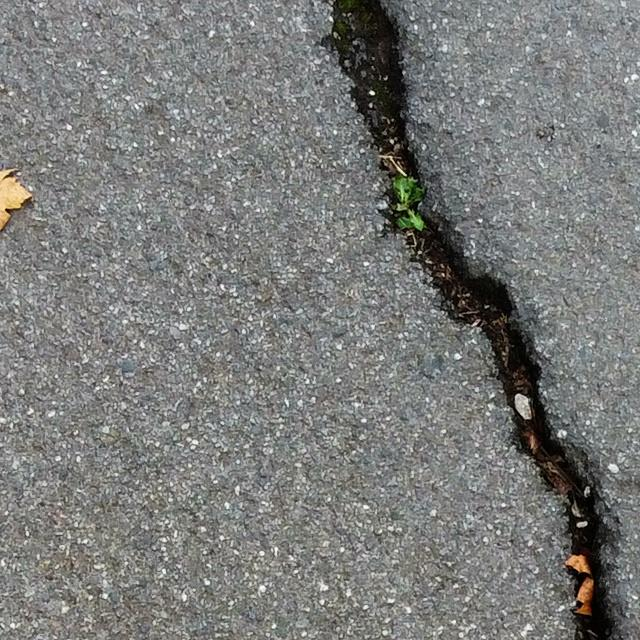LongitudinalCrack: (325, 1, 618, 640)
